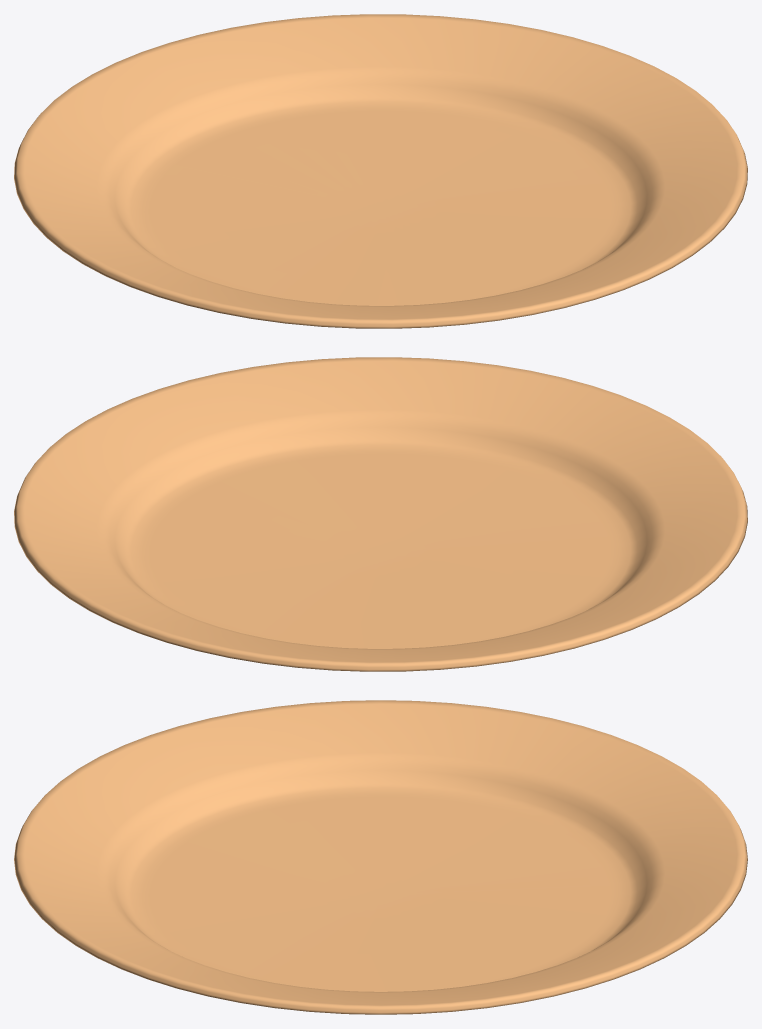
The model's file is Dish2.glb.
3 views of the same model, one above another, from view 1: azimuth 30°, elevation 25°; view 2: azimuth 150°, elevation 25°; view 3: azimuth 270°, elevation 25° (orthographic).
Visible parts, largest first — view 1: SM_WhitePorcelainDish194; view 2: SM_WhitePorcelainDish194; view 3: SM_WhitePorcelainDish194.
Part boxes in pixels (<box>): SM_WhitePorcelainDish194: <box>14,14,747,328</box>; SM_WhitePorcelainDish194: <box>14,357,747,671</box>; SM_WhitePorcelainDish194: <box>14,700,747,1014</box>.
Size of the model in its own units: 0.5819 by 0.0515 by 0.5819.
